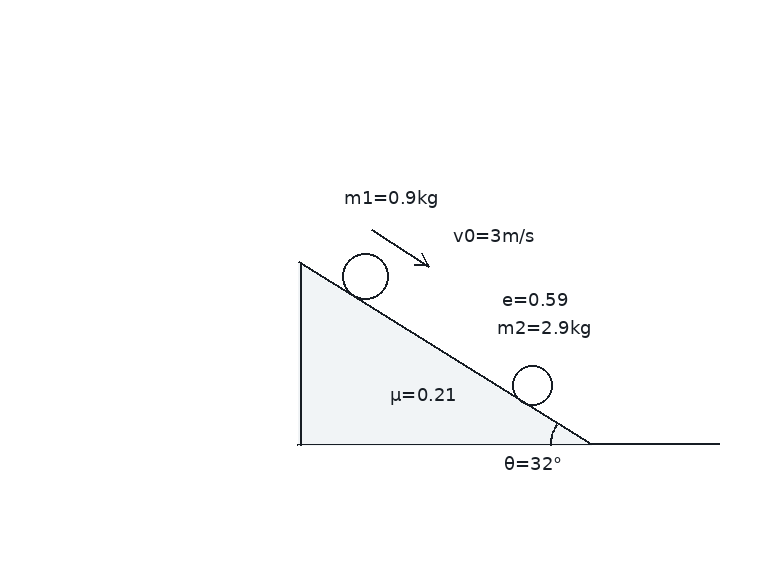ball: (340, 251, 390, 301), (510, 363, 554, 407)
ramp: (296, 260, 593, 447)
